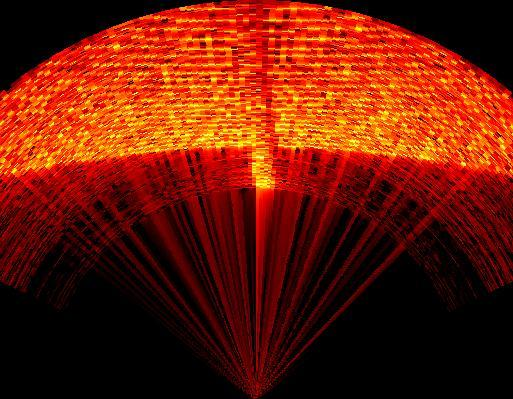pipe: (238, 5, 279, 193)
